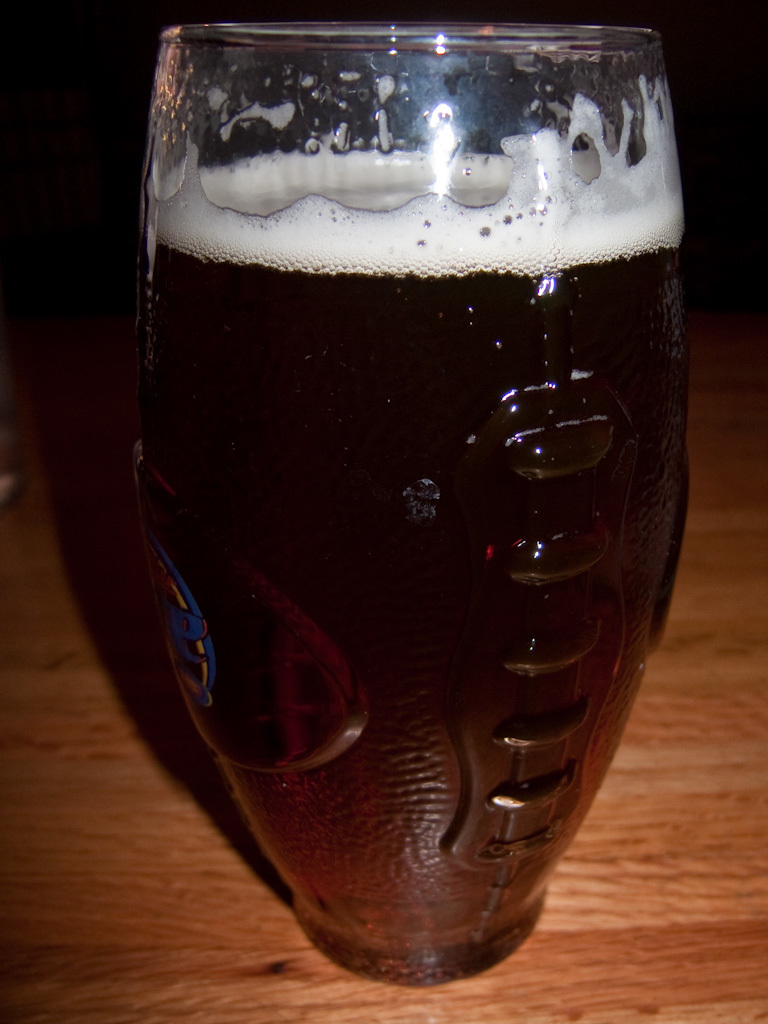Beer: (128, 177, 690, 981)
